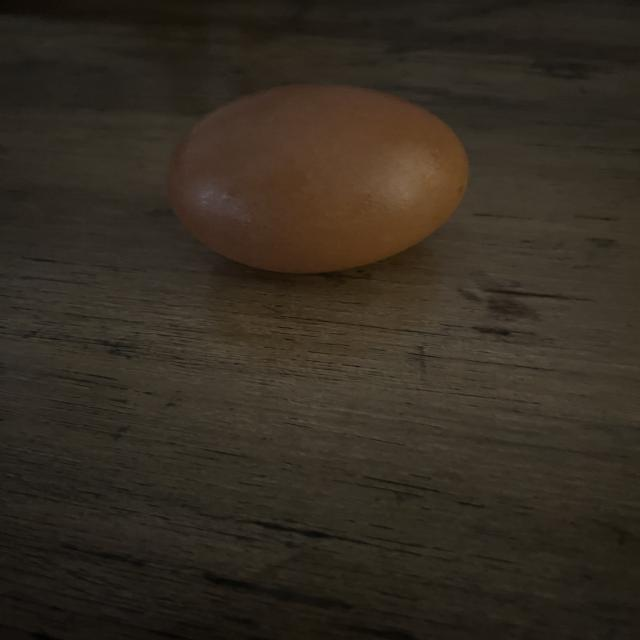Egg: (159, 78, 479, 278)
